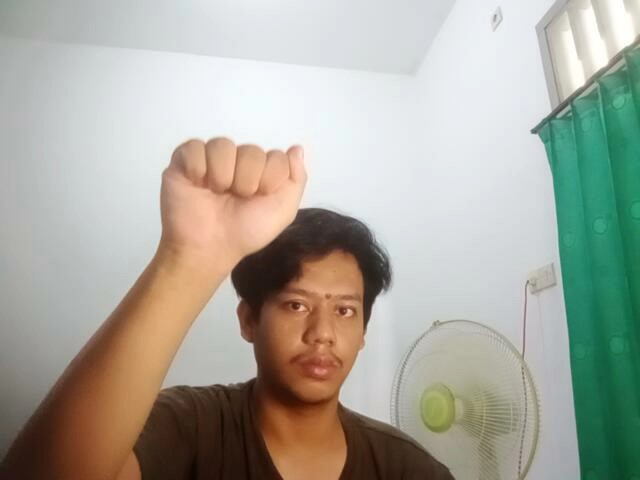A: (150, 130, 317, 265)
